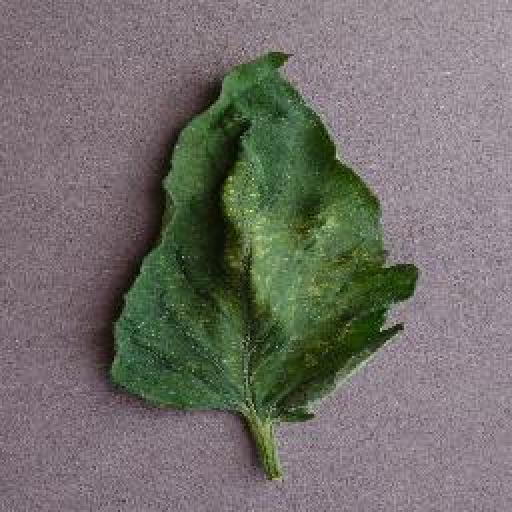disease_tomato: (108, 50, 423, 422)
